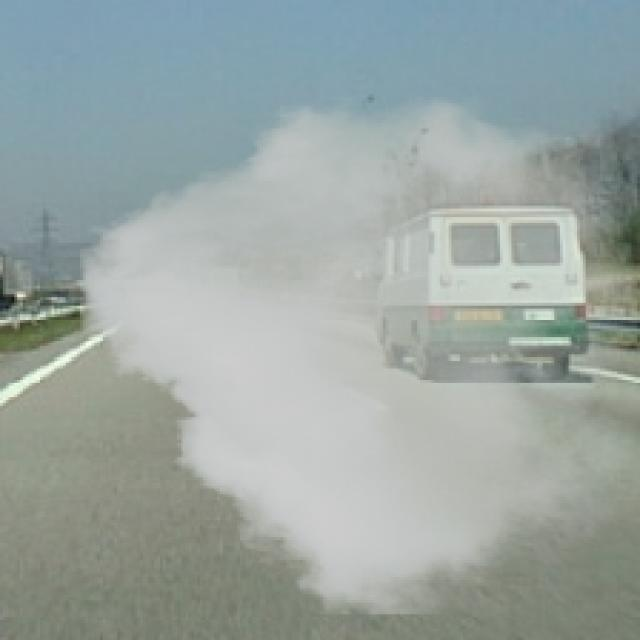smoke: (80, 97, 637, 614)
